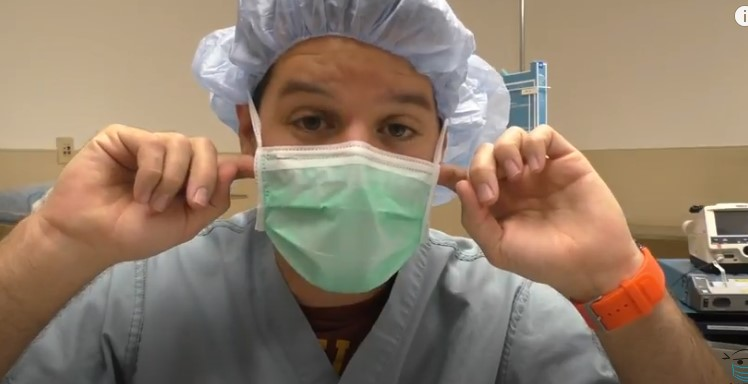face_with_mask: (245, 1, 451, 301)
